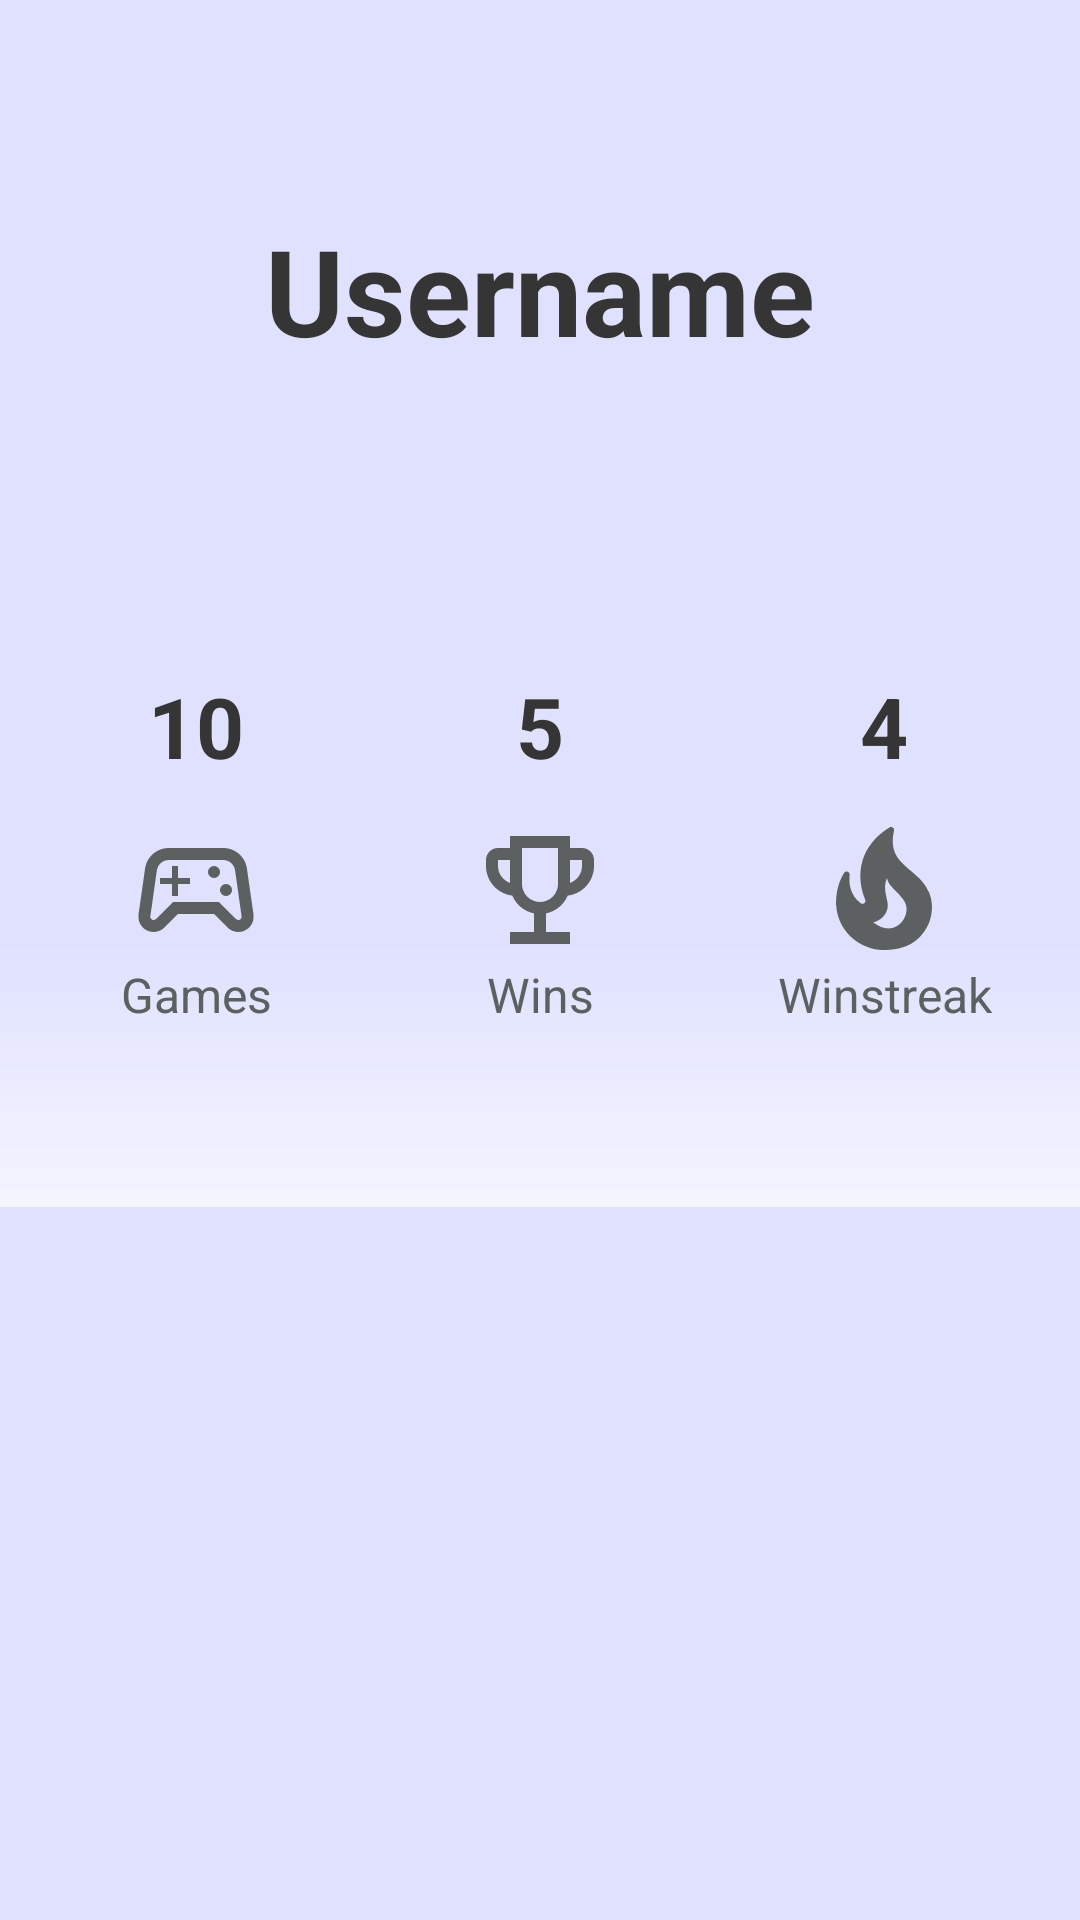

Locate icon controls on the screen. Image size 1080 x 1920, boxes as (left=x1, top=y1, right=x2, bottom=y2).
fire: (left=836, top=827, right=932, bottom=950)
gamepad: (left=138, top=848, right=254, bottom=932)
trophie: (left=486, top=836, right=594, bottom=944)
